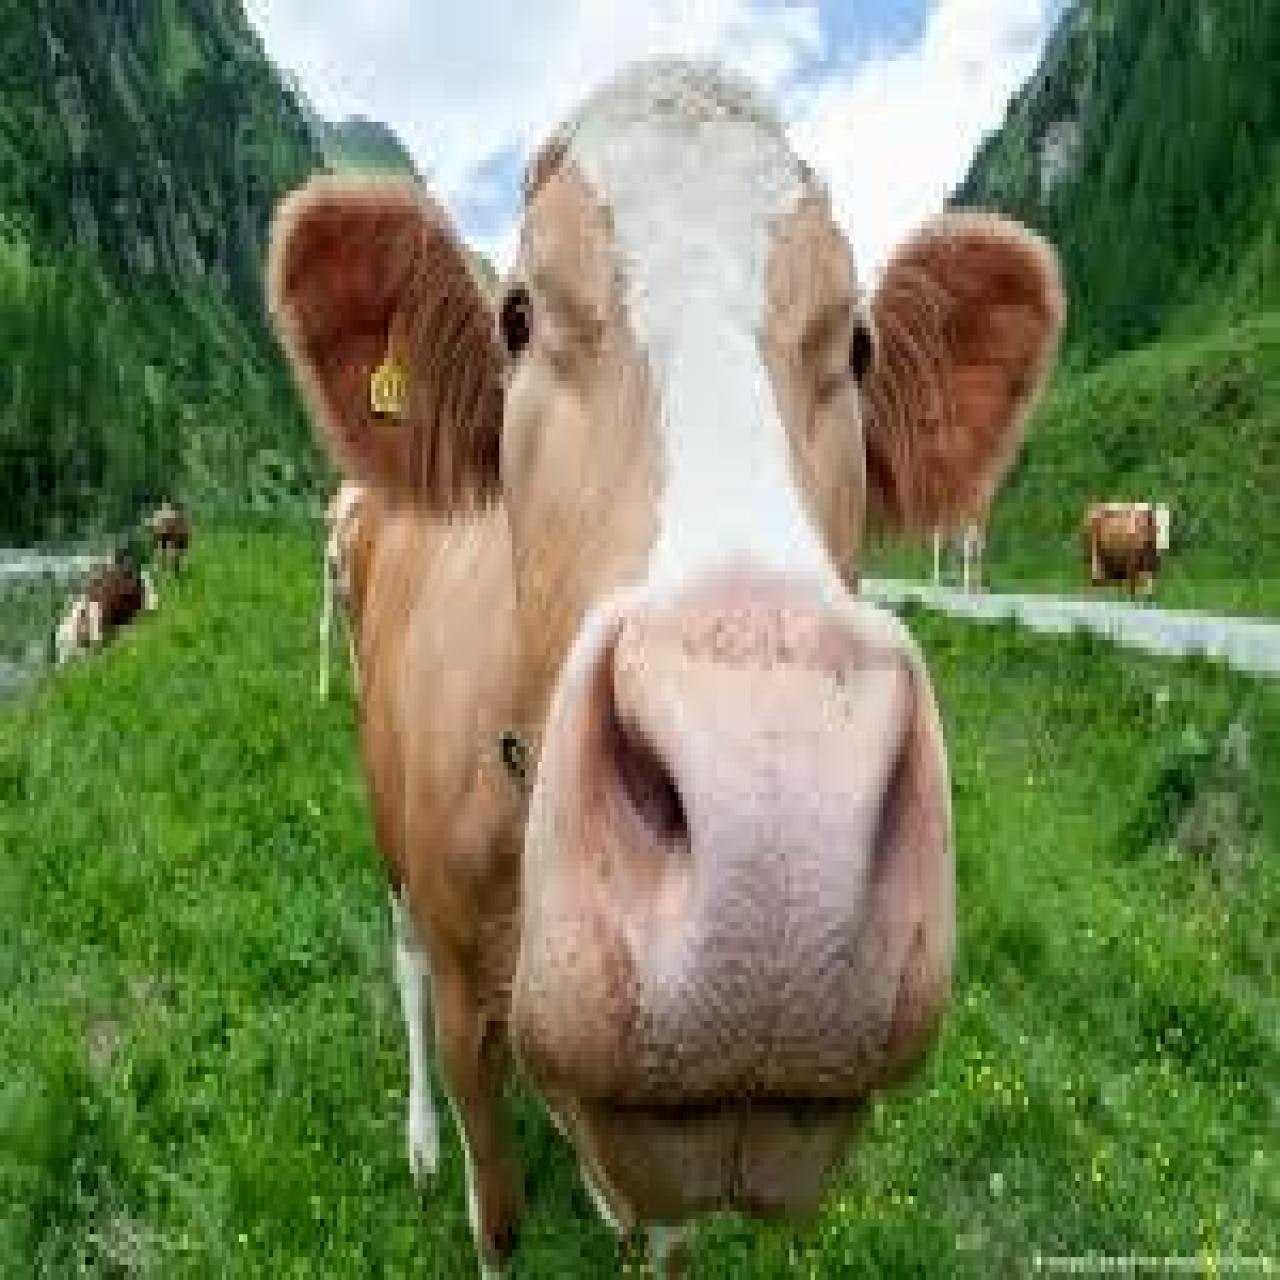cow: (266, 68, 1064, 1280), (52, 564, 162, 663), (1084, 499, 1170, 598)
